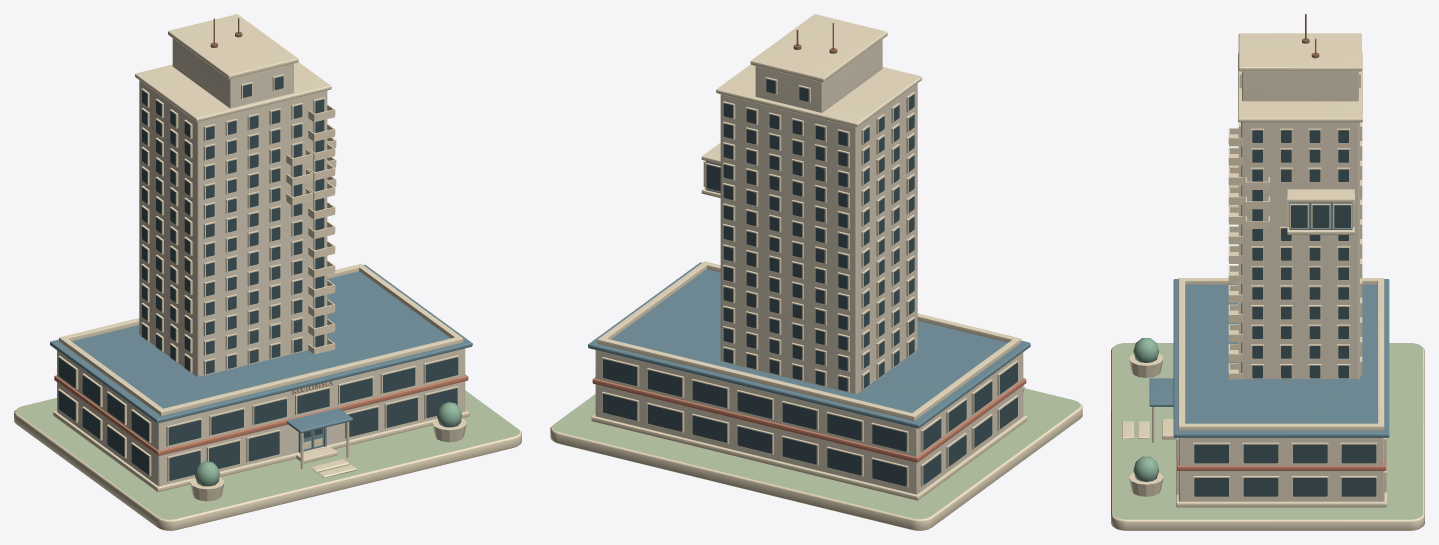
File: kolomna-hotel.glb
The picture shows the model from 3 angles, left to right: view 1: azimuth 30°, elevation 25°; view 2: azimuth 150°, elevation 25°; view 3: azimuth 270°, elevation 25°; orthographic projection. The views are drawn at different scales.
Parts seen in each view (by area): view 1: kolomna-hotel · soft low-poly; view 2: kolomna-hotel · soft low-poly; view 3: kolomna-hotel · soft low-poly.
Part boxes in pixels (x1=…): kolomna-hotel · soft low-poly: x1=14, y1=14, x2=521, y2=530; kolomna-hotel · soft low-poly: x1=550, y1=14, x2=1082, y2=530; kolomna-hotel · soft low-poly: x1=1111, y1=14, x2=1424, y2=530.
Size of the model in its own units: 7.8 by 8.39 by 5.8.
